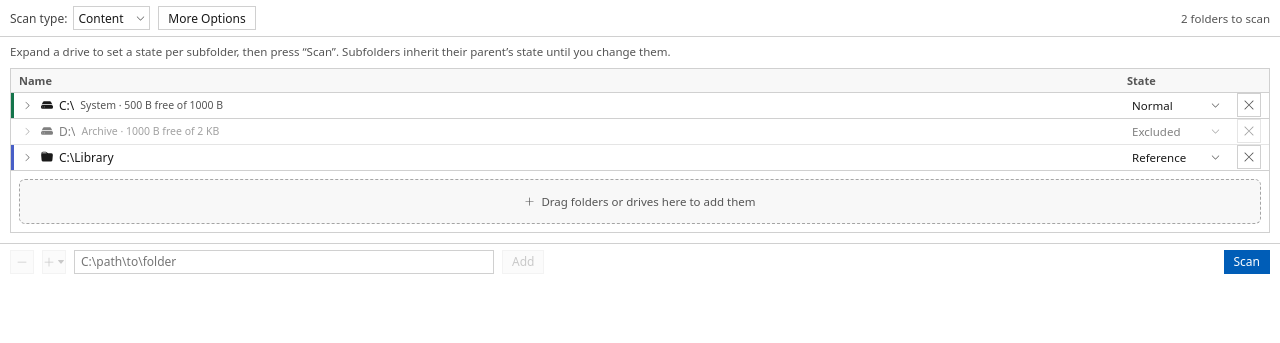
Test case: DuplicatesConfigPanel directory list › expands a drive into subfolders that inherit its state
Click the button named "Expand C:\\" at (27, 105), box x1=19 y1=97 x2=35 y2=113
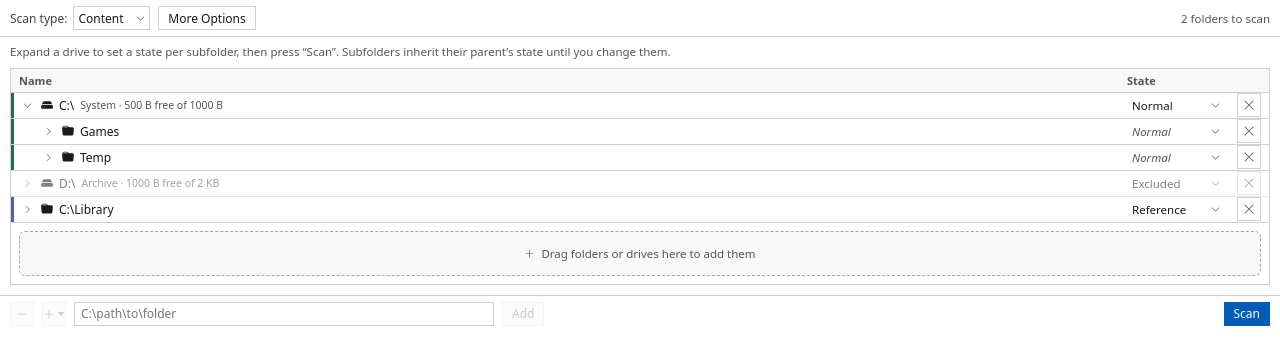
Click the dropdown named "State for C:\\Games" at (1176, 131), box x1=1127 y1=121 x2=1225 y2=142
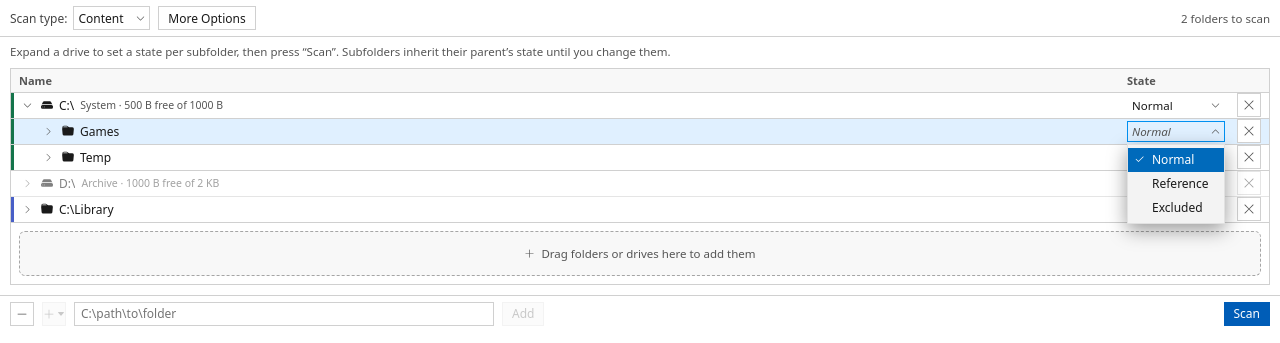
Click the option "Excluded" at (1177, 208), box x1=1152 y1=199 x2=1203 y2=216
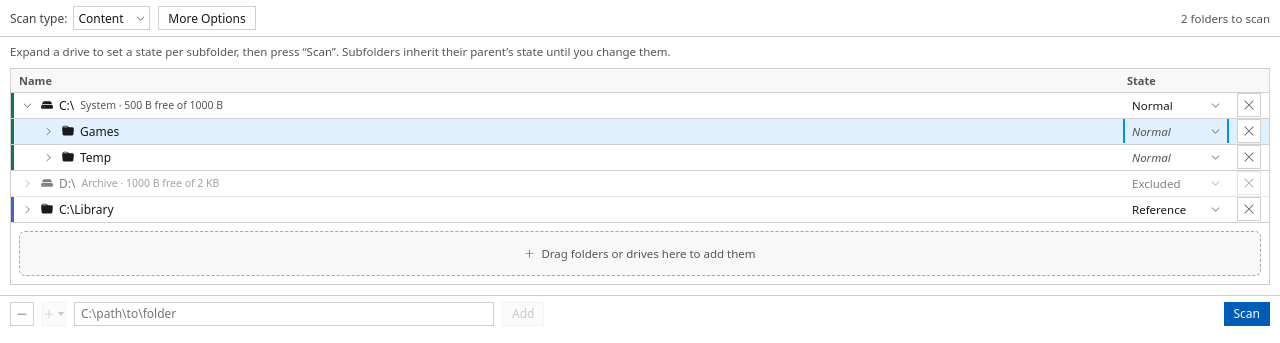
Click the button named "Collapse C:\\" at (27, 105), box x1=19 y1=97 x2=35 y2=113
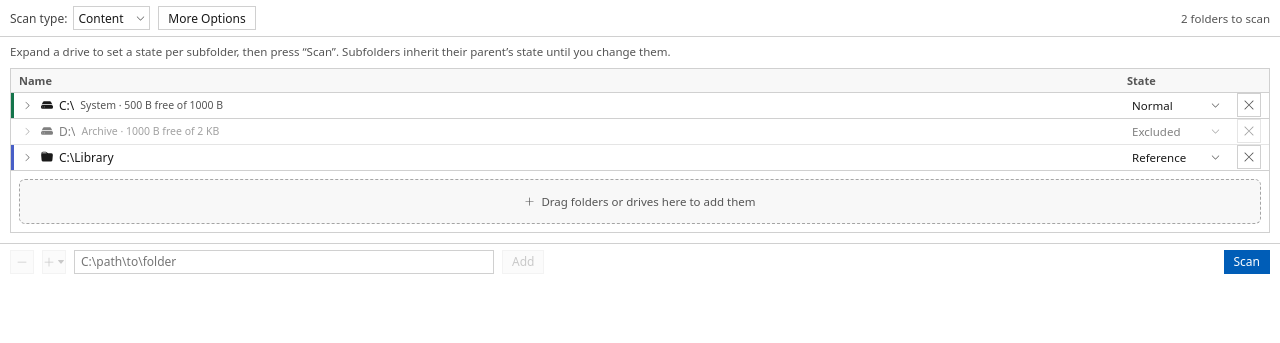
Check: the dropdown labelled "State for C:\\Games" is gone
